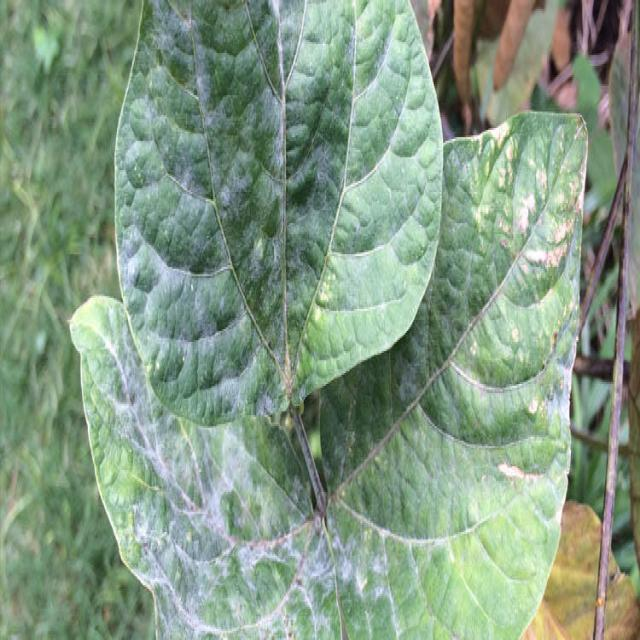Leaf_Mold: (74, 0, 616, 640)
